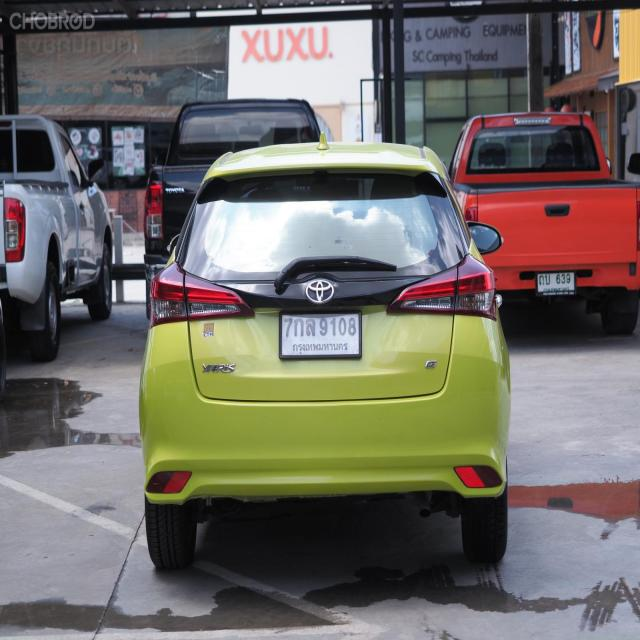license_plate: (276, 305, 367, 363)
